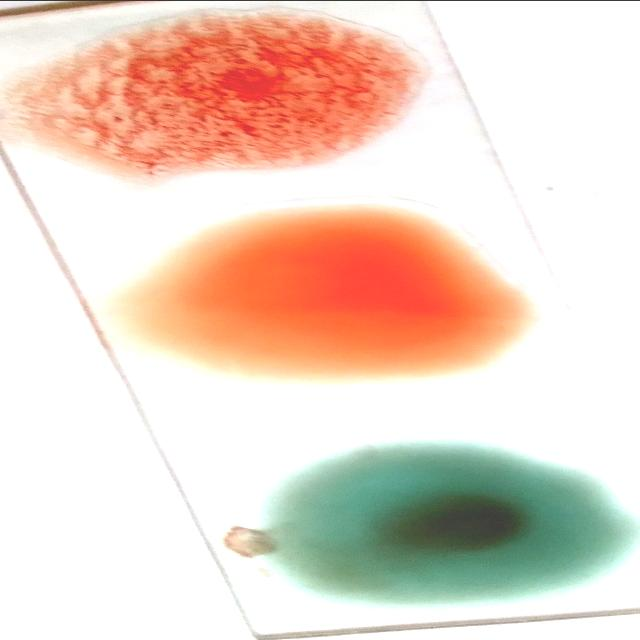D: (5, 22, 422, 162)
